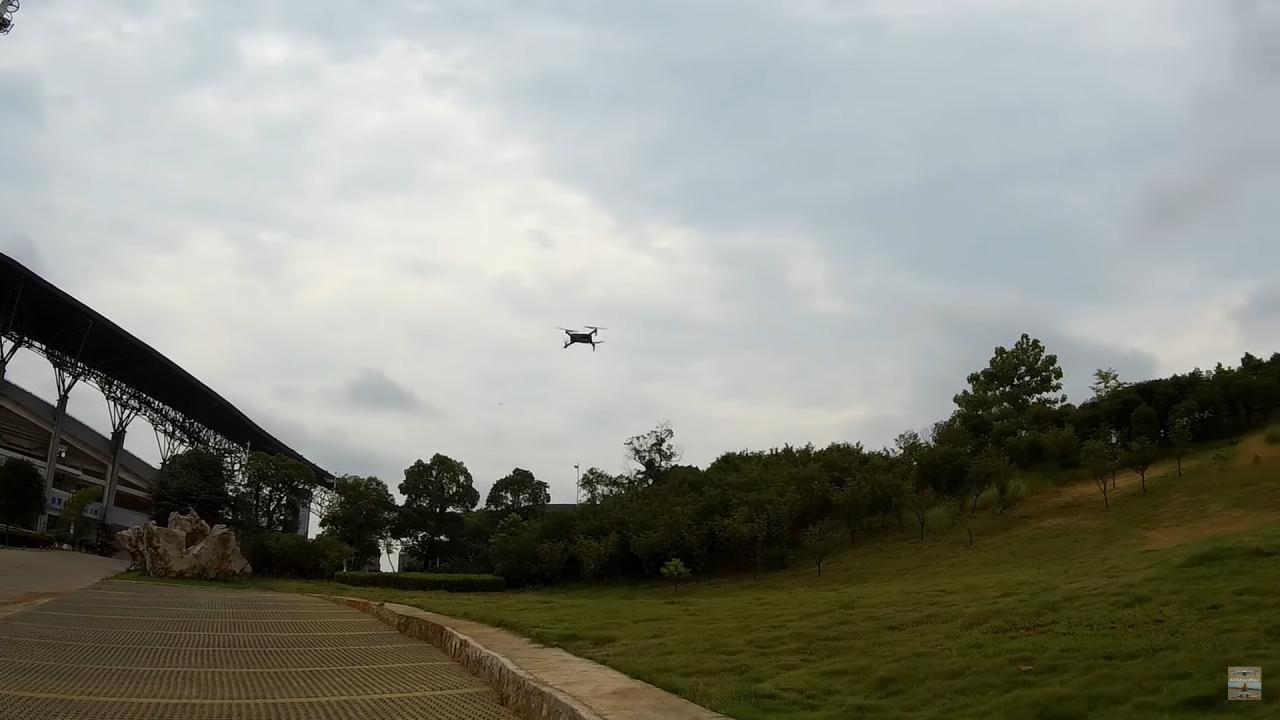Drone: (547, 317, 611, 358)
